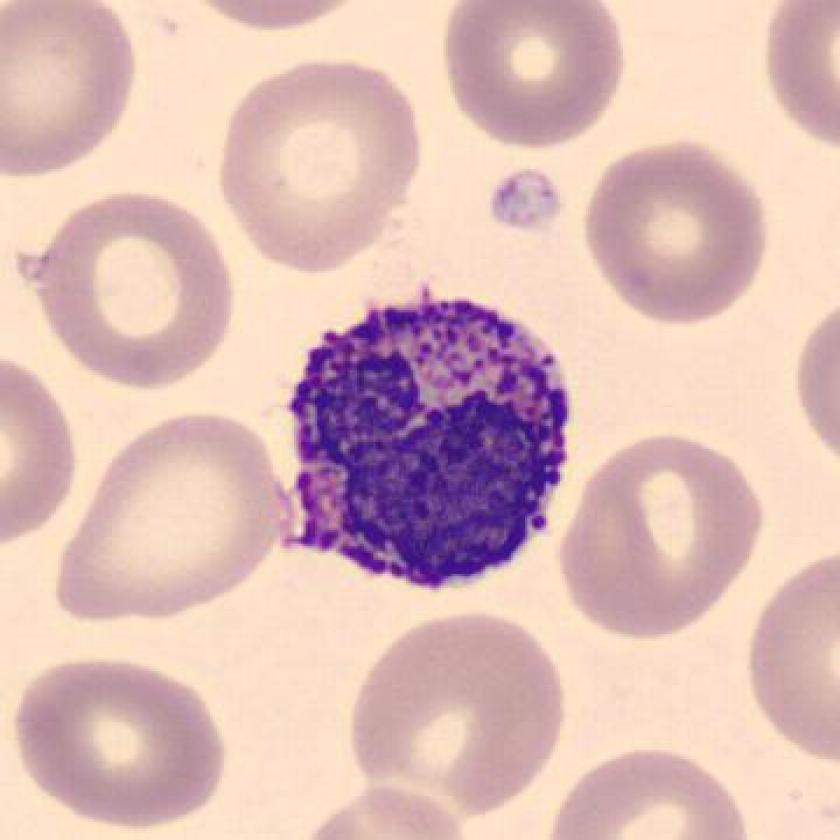basophil: (283, 290, 568, 596)
